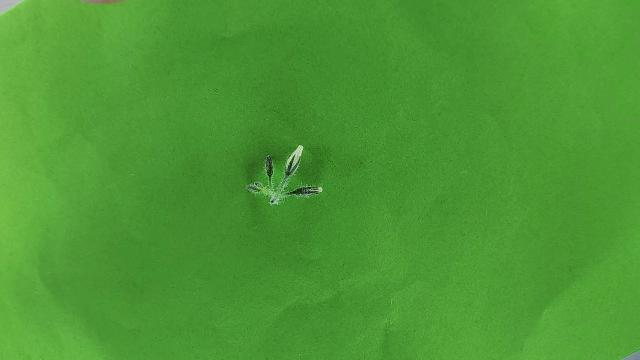Flower Bud: (284, 144, 303, 180), (286, 186, 323, 197), (265, 155, 274, 187)
